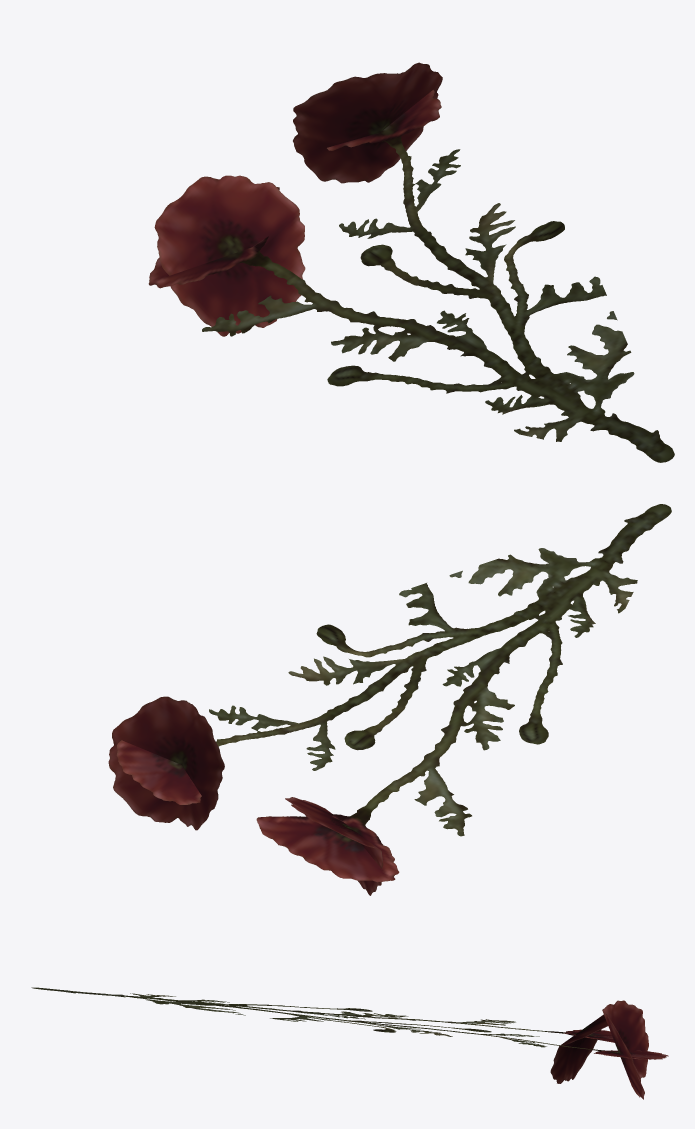
Rendered from MEP_RedFlower_02.fbx.
3 renders of one model, top to bottom at view 1: azimuth 30°, elevation 25°; view 2: azimuth 150°, elevation 25°; view 3: azimuth 270°, elevation 25°, orthographic. The views are drawn at different scales.
Parts seen in each view (by area): view 1: MEP_RedFlower_02; view 2: MEP_RedFlower_02; view 3: MEP_RedFlower_02.
Part boxes in pixels (bbox=[...]): MEP_RedFlower_02: bbox=[148, 62, 674, 462]; MEP_RedFlower_02: bbox=[108, 504, 671, 895]; MEP_RedFlower_02: bbox=[31, 987, 668, 1099].
Size of the model in its own units: 0.5091 by 0.2478 by 0.8765.
